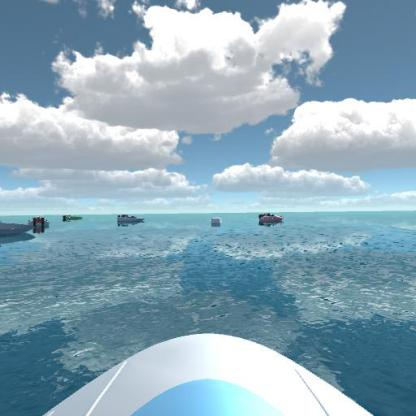usv0: (61, 209, 84, 225)
usv1: (0, 212, 35, 243), (116, 210, 146, 226)
usv3: (256, 206, 288, 229), (24, 212, 53, 232)
